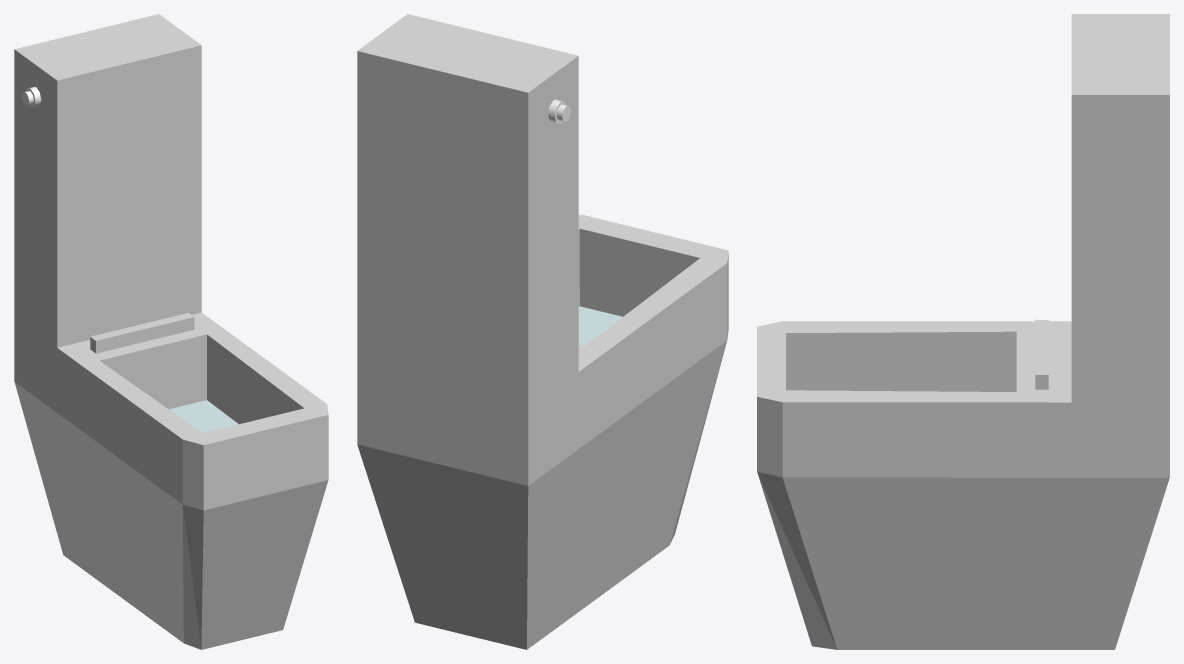
The model's file is Itr_Obj_Toilet_Body_01.FBX.
3 views of the same model, side by side, from view 1: azimuth 30°, elevation 25°; view 2: azimuth 150°, elevation 25°; view 3: azimuth 270°, elevation 25° (orthographic). The views are drawn at different scales.
Visible parts, largest first — view 1: Itr_Obj_Toilet_Body_01; view 2: Itr_Obj_Toilet_Body_01; view 3: Itr_Obj_Toilet_Body_01.
Part boxes in pixels (bbox=[...]): Itr_Obj_Toilet_Body_01: bbox=[14, 14, 328, 649]; Itr_Obj_Toilet_Body_01: bbox=[357, 14, 728, 649]; Itr_Obj_Toilet_Body_01: bbox=[757, 14, 1169, 649].
Bounding box in the file's own units: 14.48 × 44.06 × 28.97.
